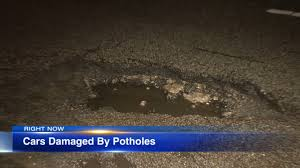pothole: (83, 60, 234, 122)
